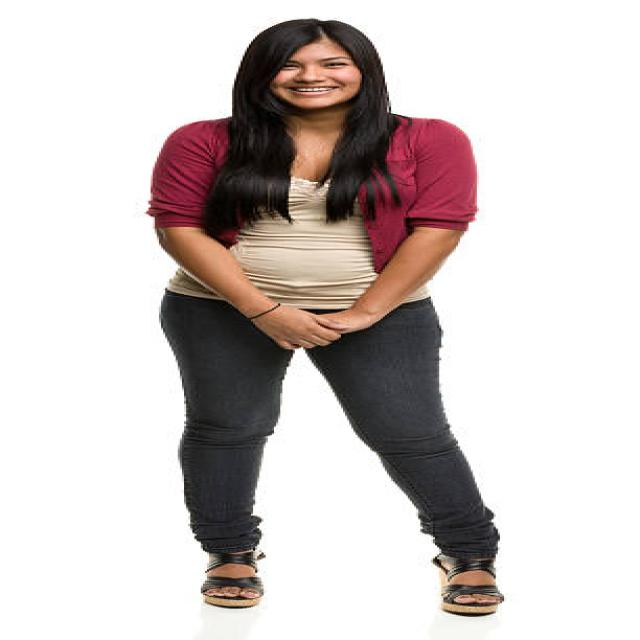Edited images: (114, 8, 566, 619)
